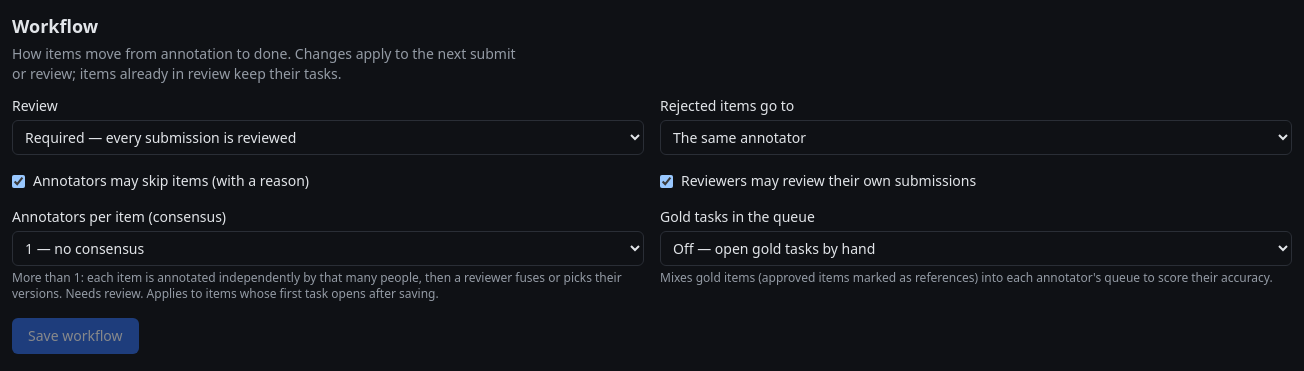
Test: WorkflowSettings › disables consensus when review is off
Select "None — submitting approves the item" in the dropdown labelled "Review": [328, 138] box 12,120 -> 644,155
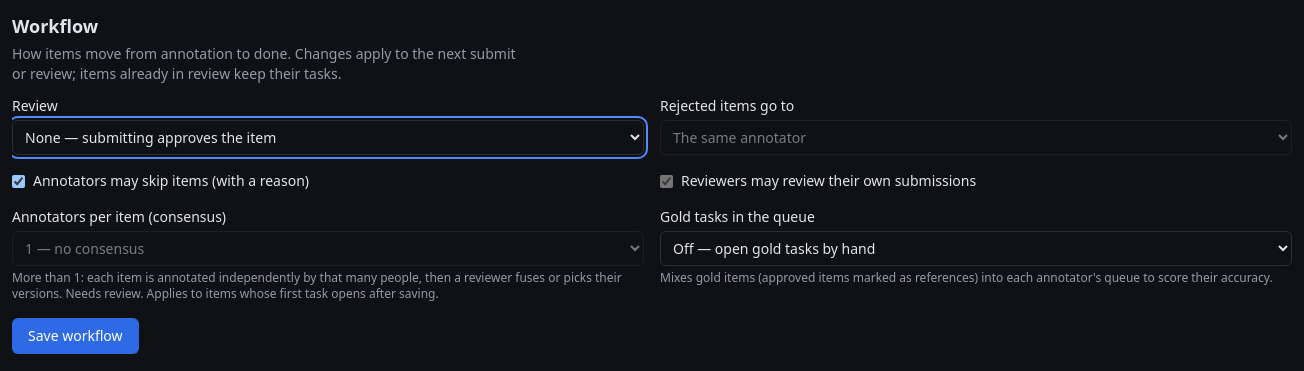
Now the dropdown labelled "Annotators per item (consensus)" is disabled, box 12,231 -> 644,266
